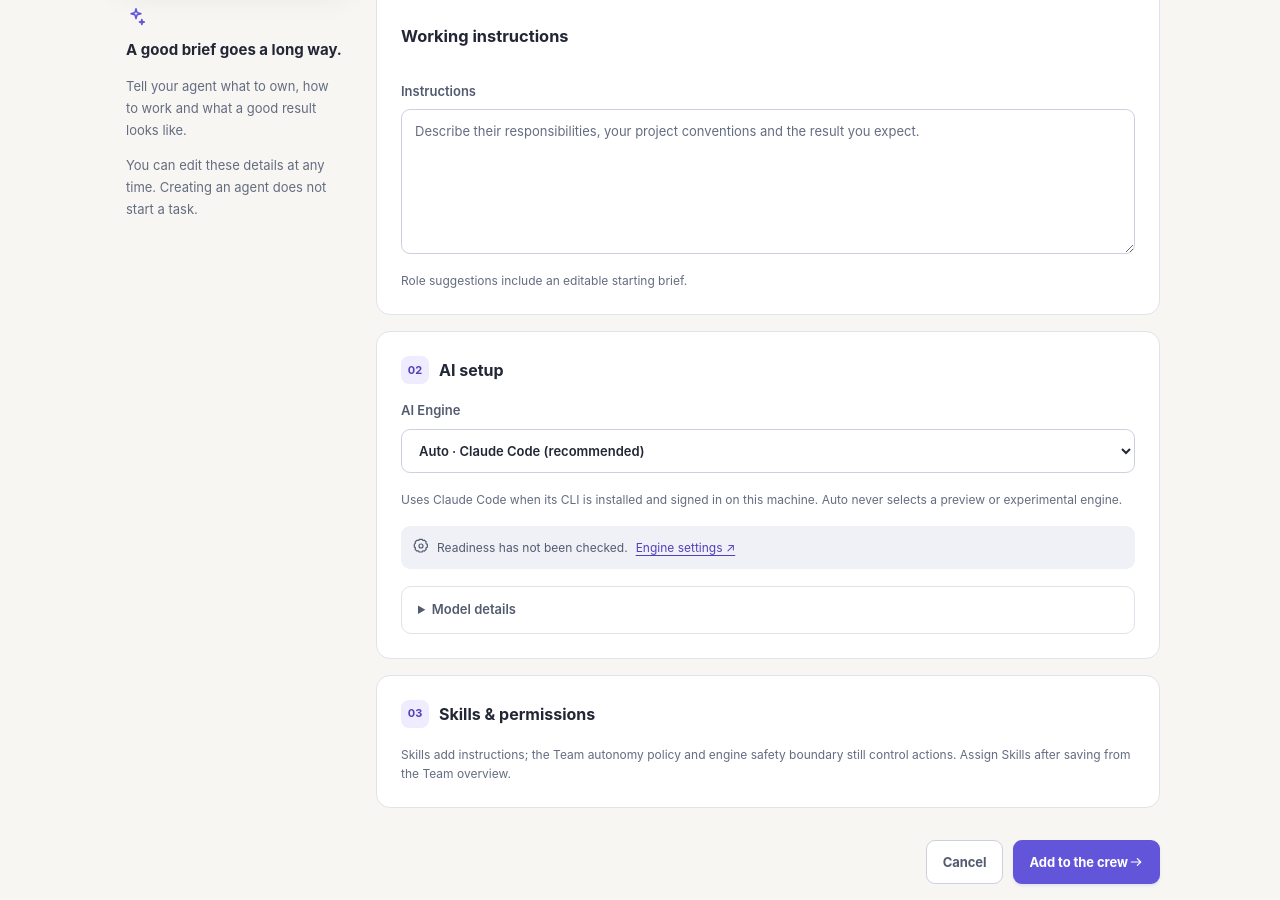
Test: Agent identity form › offers no model choice for an engine that takes none
The image size is (1280, 900).
(page scrolled)
Select "Demo Mode · simulated replies" in the dropdown labelled "AI Engine" at point(768, 451), box [401, 429, 1135, 473]
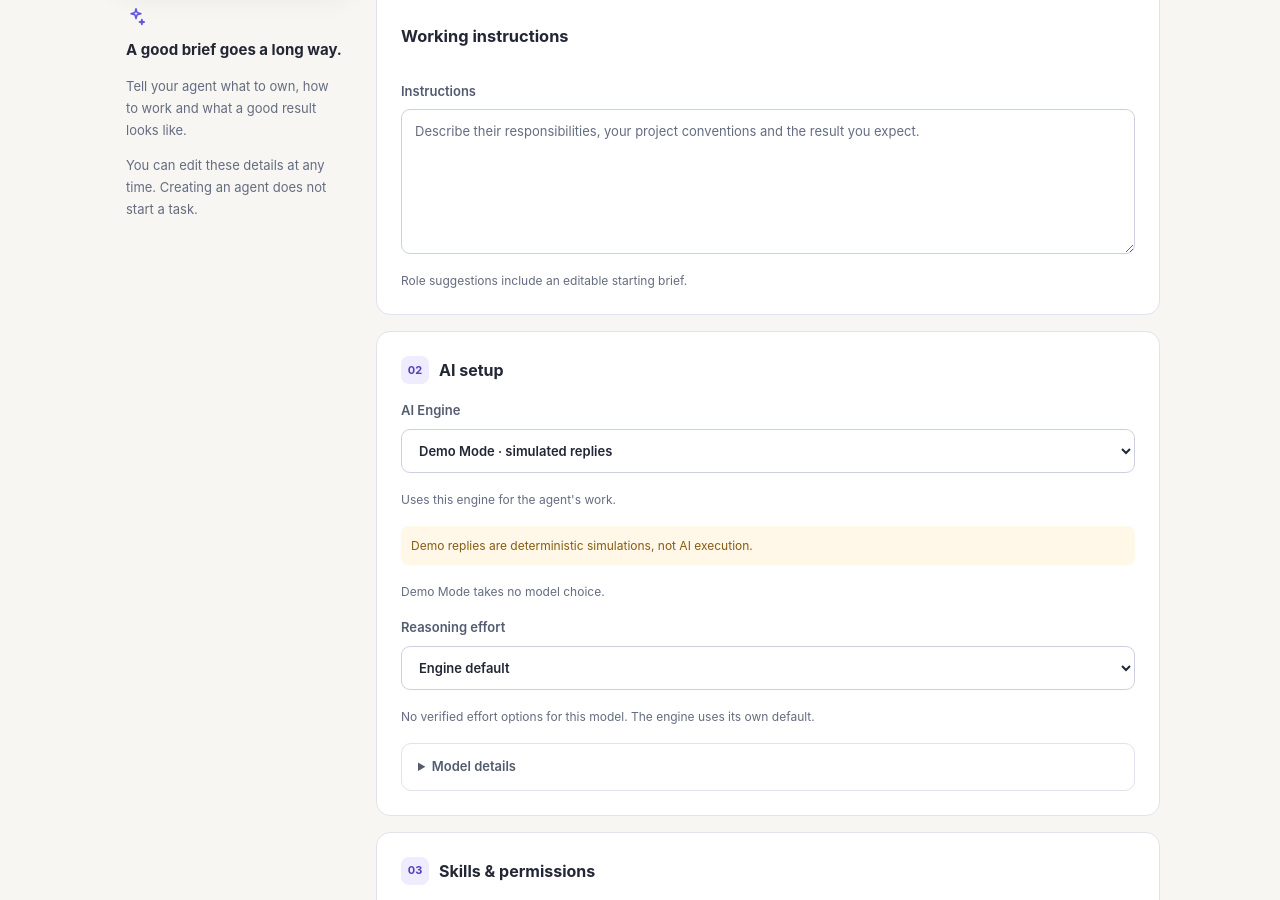
Now the text "Demo Mode takes no model choice." is shown, box [401, 584, 605, 599]
